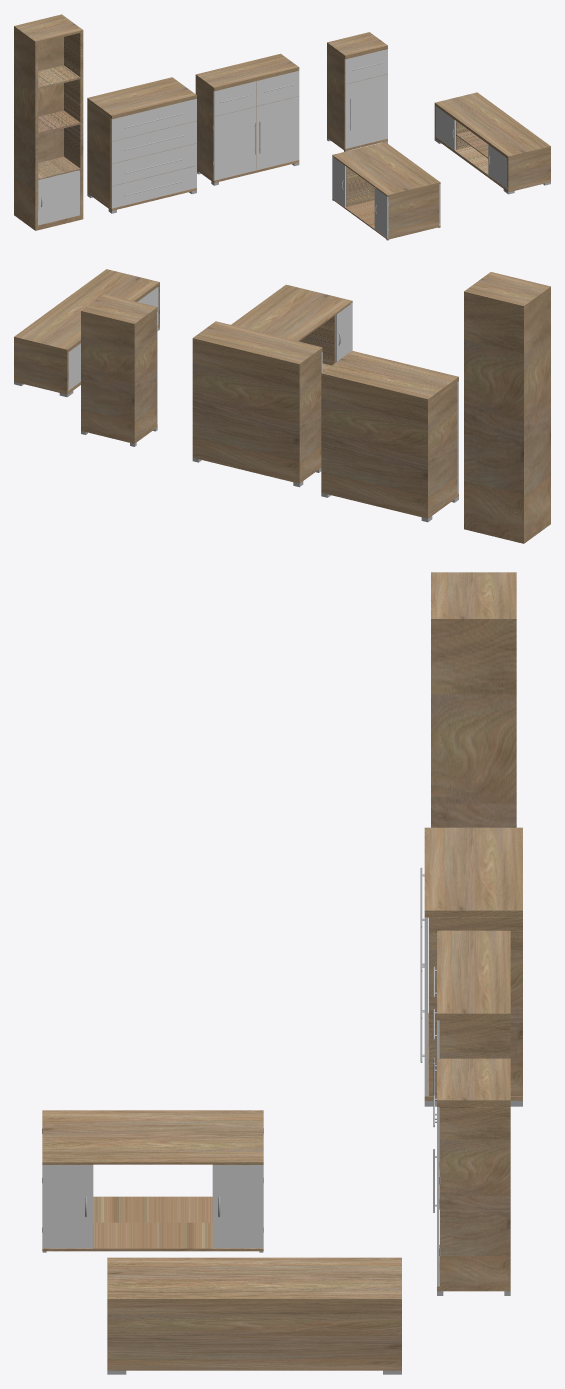
The model's file is Collection.FBX.
3 views of the same model, one above another, from view 1: azimuth 30°, elevation 25°; view 2: azimuth 150°, elevation 25°; view 3: azimuth 270°, elevation 25° (orthographic). The views are drawn at different scales.
Visible parts, largest first — view 1: E_ HighGloss_ShelfUnit, Front Sideboard, DrawerUnit Front, D_ HighGloss_CoffeeTable, C_ HighGloss_TVUnit, F_ HighGloss_DrawerUnit, A_ HighGloss_Sideboard, CupBoard Front, B_ HighGloss_Cupboard, Shelf Unit Door, CoffeeTable Doors, TVUnit Doors (+1 smaller); view 2: E_ HighGloss_ShelfUnit, F_ HighGloss_DrawerUnit, A_ HighGloss_Sideboard, B_ HighGloss_Cupboard, C_ HighGloss_TVUnit, D_ HighGloss_CoffeeTable, CoffeeTable Doors, TVUnit Doors; view 3: C_ HighGloss_TVUnit, E_ HighGloss_ShelfUnit, D_ HighGloss_CoffeeTable, B_ HighGloss_Cupboard, F_ HighGloss_DrawerUnit, A_ HighGloss_Sideboard, CoffeeTable Doors.
Part boxes in pixels (x1,y1,x2,y2): E_ HighGloss_ShelfUnit: [14, 14, 83, 230]; Front Sideboard: [213, 71, 299, 180]; DrawerUnit Front: [111, 98, 196, 208]; D_ HighGloss_CoffeeTable: [332, 142, 440, 239]; C_ HighGloss_TVUnit: [434, 92, 550, 192]; F_ HighGloss_DrawerUnit: [87, 77, 196, 210]; A_ HighGloss_Sideboard: [195, 53, 299, 182]; CupBoard Front: [345, 49, 387, 148]; B_ HighGloss_Cupboard: [327, 32, 387, 151]; Shelf Unit Door: [38, 170, 80, 225]; CoffeeTable Doors: [332, 156, 440, 238]; TVUnit Doors: [435, 106, 507, 188]; E_ HighGloss_ShelfUnit: [464, 272, 550, 543]; F_ HighGloss_DrawerUnit: [321, 350, 458, 518]; A_ HighGloss_Sideboard: [192, 321, 322, 483]; B_ HighGloss_Cupboard: [81, 294, 157, 443]; C_ HighGloss_TVUnit: [14, 269, 159, 394]; D_ HighGloss_CoffeeTable: [231, 284, 352, 371]; CoffeeTable Doors: [335, 302, 352, 362]; TVUnit Doors: [68, 286, 158, 389]; C_ HighGloss_TVUnit: [107, 1257, 401, 1370]; E_ HighGloss_ShelfUnit: [431, 572, 516, 827]; D_ HighGloss_CoffeeTable: [42, 1110, 263, 1251]; B_ HighGloss_Cupboard: [437, 1058, 510, 1291]; F_ HighGloss_DrawerUnit: [424, 827, 522, 1100]; A_ HighGloss_Sideboard: [437, 930, 510, 1203]; CoffeeTable Doors: [42, 1165, 263, 1248].
Size of the model in its own units: 161 by 77.09 by 67.21.
